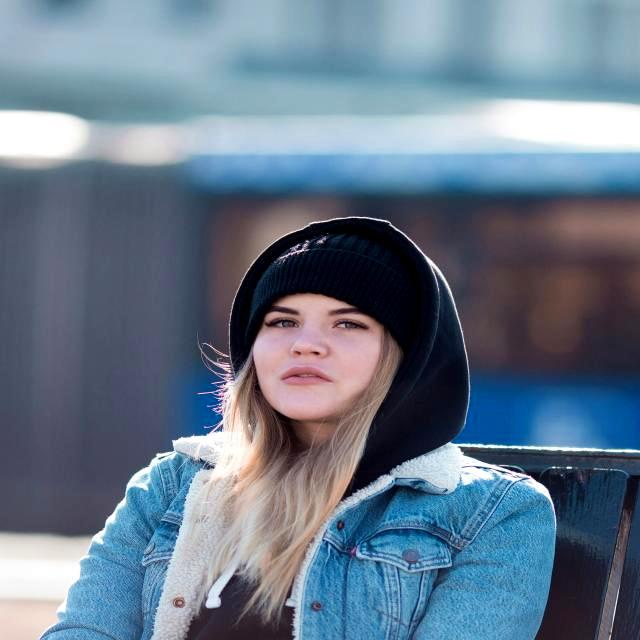no_hard_hat: (229, 218, 468, 492)
person: (42, 218, 555, 640)
